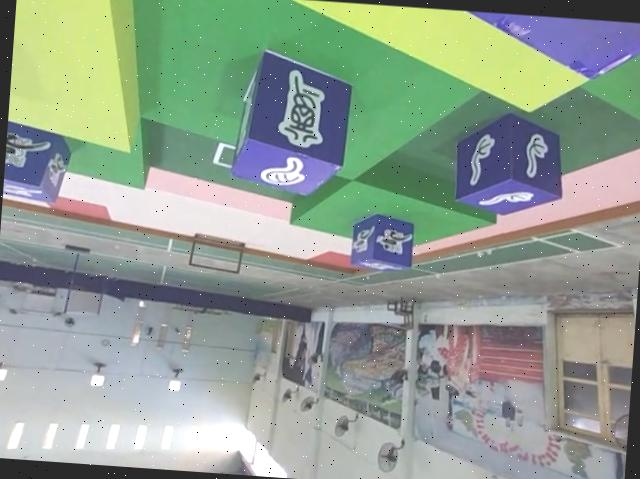R1 Blue: (2, 116, 72, 205), (347, 210, 414, 272)
R2 Fake Blue: (230, 42, 354, 195)
R2 Real Blue: (451, 106, 568, 217)
